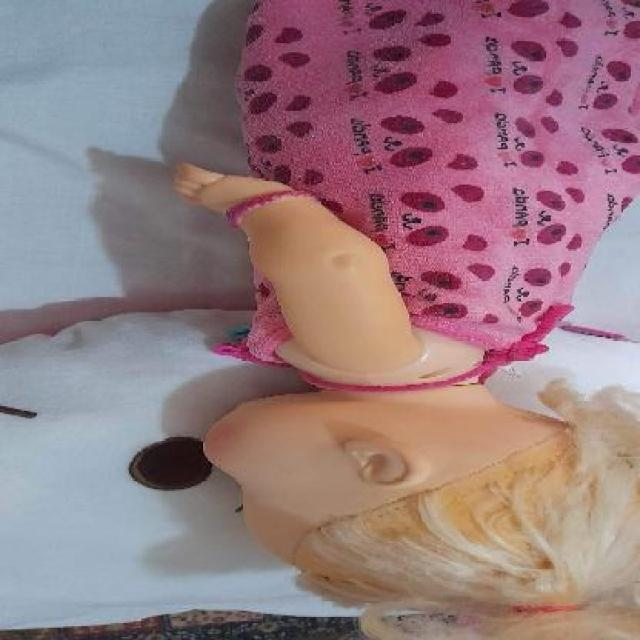non-dog: (166, 0, 640, 635)
